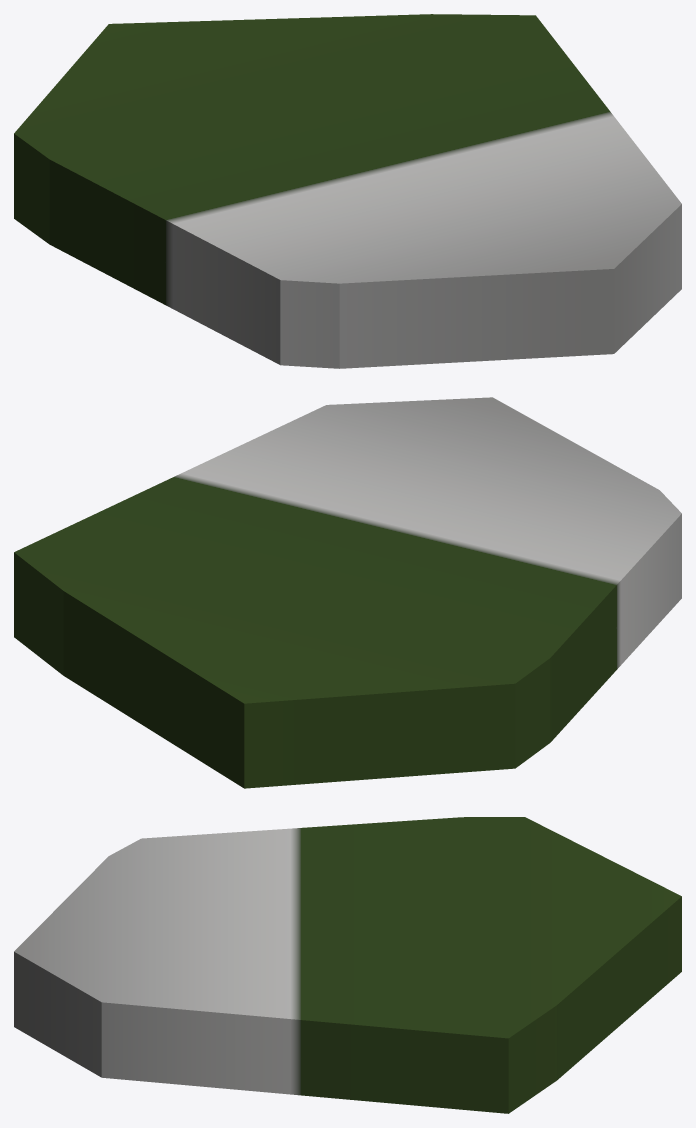
File: Tile_01.fbx
The picture shows the model from 3 angles, top to bottom: view 1: azimuth 30°, elevation 25°; view 2: azimuth 150°, elevation 25°; view 3: azimuth 270°, elevation 25°; orthographic projection. The views are drawn at different scales.
Parts seen in each view (by area): view 1: Tile_01; view 2: Tile_01; view 3: Tile_01.
Part boxes in pixels (bbox=[...]): Tile_01: bbox=[14, 14, 681, 368]; Tile_01: bbox=[14, 397, 681, 788]; Tile_01: bbox=[14, 817, 681, 1113].
Bounding box in the file's own units: 0.5784 × 0.0919 × 0.7376.
